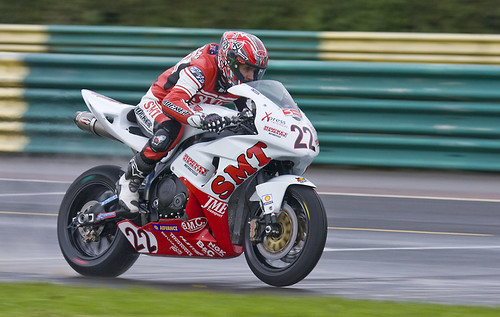helmet: (217, 27, 273, 83)
